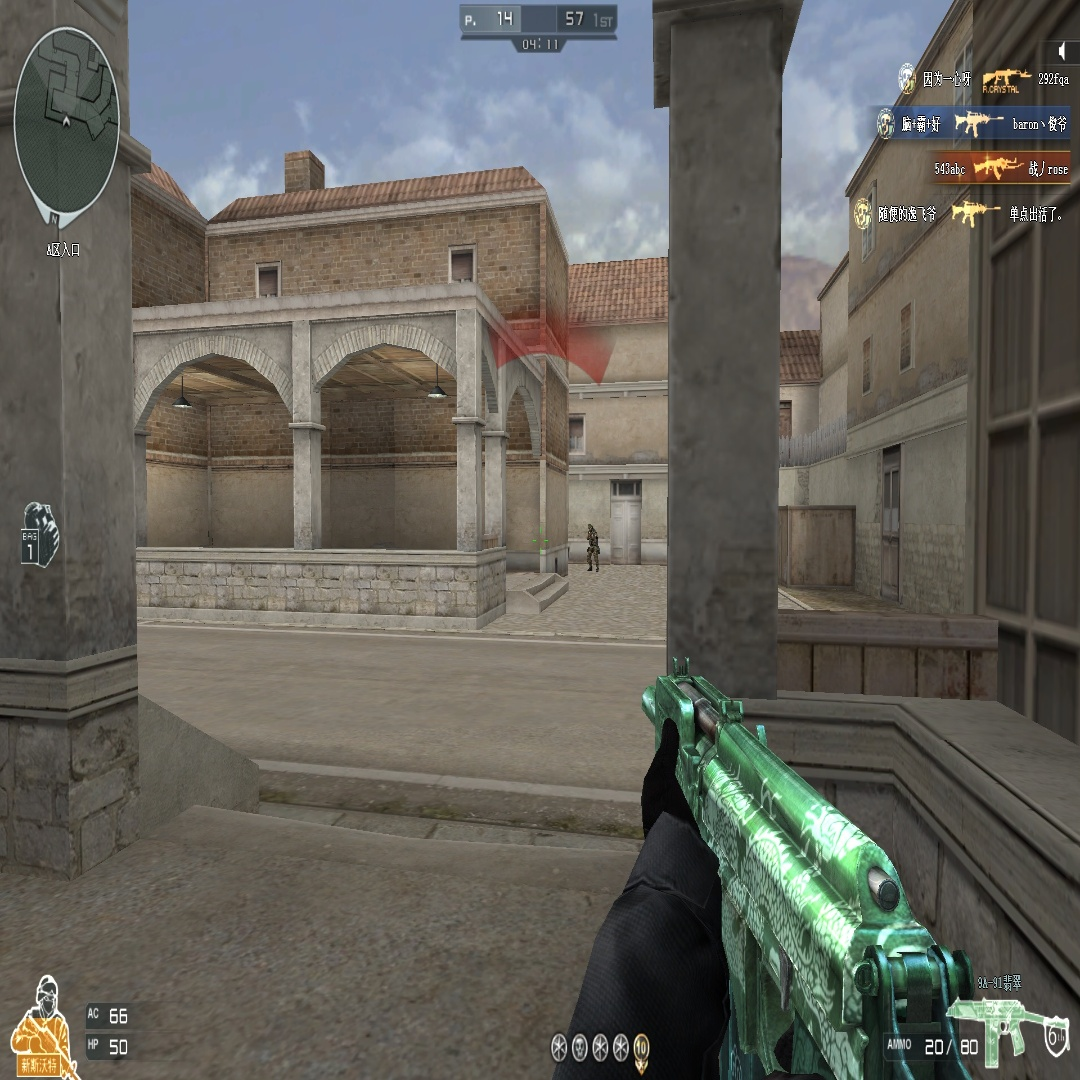p: (586, 524, 601, 573)
